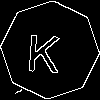K: (25, 25, 63, 74)
